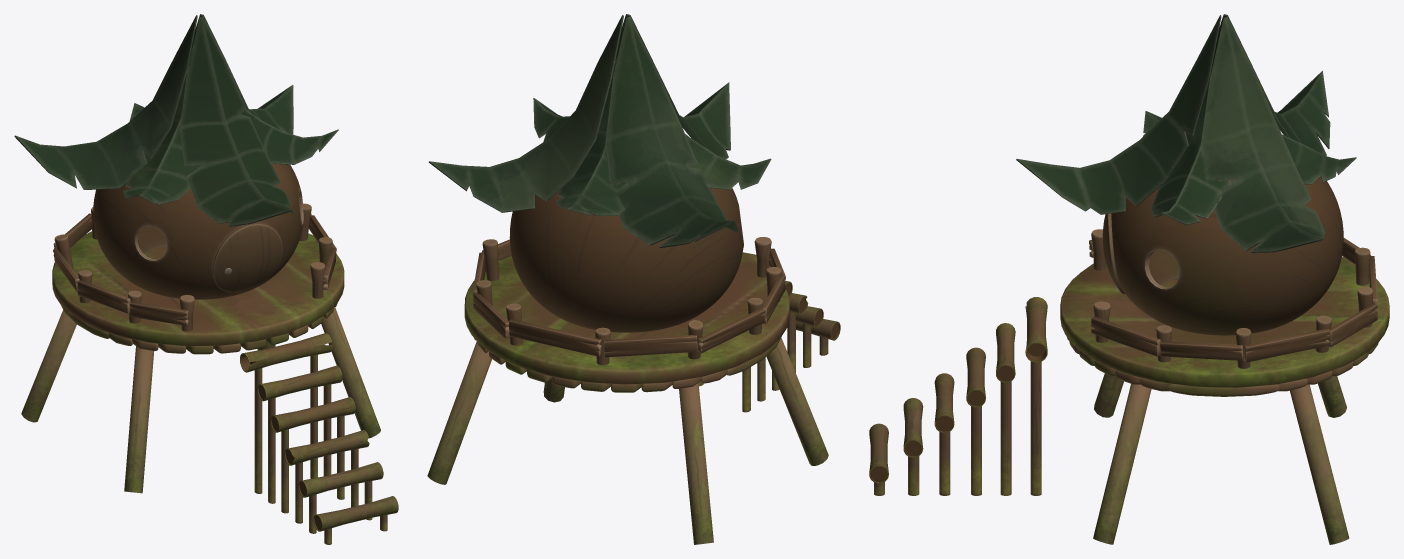
File: Coconut.fbx
The picture shows the model from 3 angles, left to right: view 1: azimuth 30°, elevation 25°; view 2: azimuth 150°, elevation 25°; view 3: azimuth 270°, elevation 25°; orthographic projection. The views are drawn at different scales.
Parts seen in each view (by area): view 1: BNN Roof_B, Floor_Low, Stair, Coconut_Low, BNN Roof_S, Door, Fence_Low, Cylinder.007, Cylinder.005, LogFence_Low, Cylinder.004, FloorWood; view 2: BNN Roof_B, Coconut_Low, Floor_Low, Fence_Low, BNN Roof_S, Stair, Cylinder.004, LogFence_Low, Cylinder.006, Cylinder.007, FloorWood; view 3: BNN Roof_B, Coconut_Low, Floor_Low, Stair, BNN Roof_S, Fence_Low, Cylinder.005, Cylinder.006, LogFence_Low, FloorWood, Cylinder.007, Cylinder.004 (+1 smaller).
Boxes of the visible parts, x1,y1,x2,y2 form: BNN Roof_B: [14, 14, 293, 226]; Floor_Low: [52, 231, 344, 346]; Stair: [240, 333, 398, 544]; Coconut_Low: [93, 152, 303, 299]; BNN Roof_S: [123, 73, 338, 204]; Door: [213, 224, 282, 292]; Fence_Low: [53, 211, 336, 325]; Cylinder.007: [124, 346, 154, 493]; Cylinder.005: [321, 307, 380, 438]; LogFence_Low: [54, 203, 332, 331]; Cylinder.004: [21, 310, 76, 422]; FloorWood: [61, 302, 337, 354]; BNN Roof_B: [428, 14, 737, 248]; Coconut_Low: [509, 187, 743, 332]; Floor_Low: [464, 255, 789, 384]; Fence_Low: [472, 239, 785, 357]; BNN Roof_S: [533, 58, 771, 215]; Stair: [698, 252, 840, 412]; Cylinder.004: [679, 383, 713, 544]; LogFence_Low: [476, 237, 781, 365]; Cylinder.006: [427, 341, 491, 484]; Cylinder.007: [766, 337, 828, 465]; FloorWood: [474, 336, 781, 392]; BNN Roof_B: [1016, 14, 1330, 252]; Coconut_Low: [1111, 176, 1343, 335]; Floor_Low: [1060, 256, 1389, 387]; Stair: [869, 297, 1047, 495]; BNN Roof_S: [1143, 80, 1356, 224]; Fence_Low: [1089, 238, 1377, 362]; Cylinder.005: [1093, 384, 1151, 544]; Cylinder.006: [1290, 384, 1349, 544]; LogFence_Low: [1091, 229, 1373, 368]; FloorWood: [1067, 337, 1378, 396]; Cylinder.007: [1094, 373, 1123, 417]; Cylinder.004: [1318, 376, 1346, 417].
Size of the model in its own units: 819 by 1163 by 1181.
7 materials, 7 textured.
